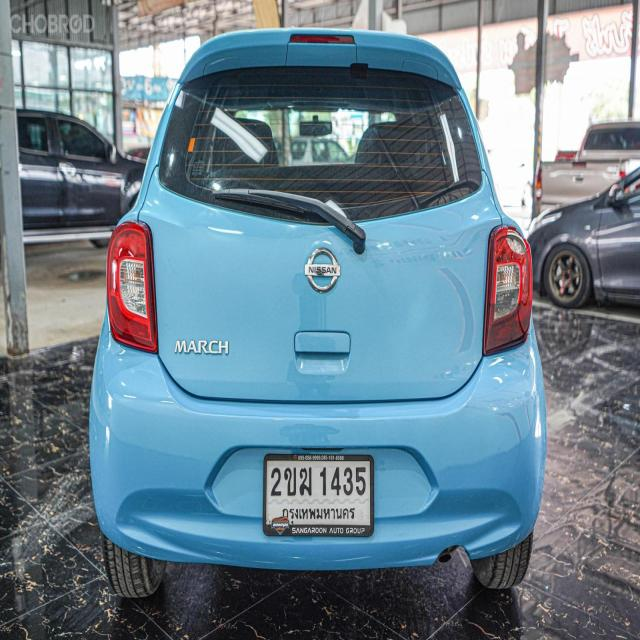license_plate: (260, 448, 379, 550)
